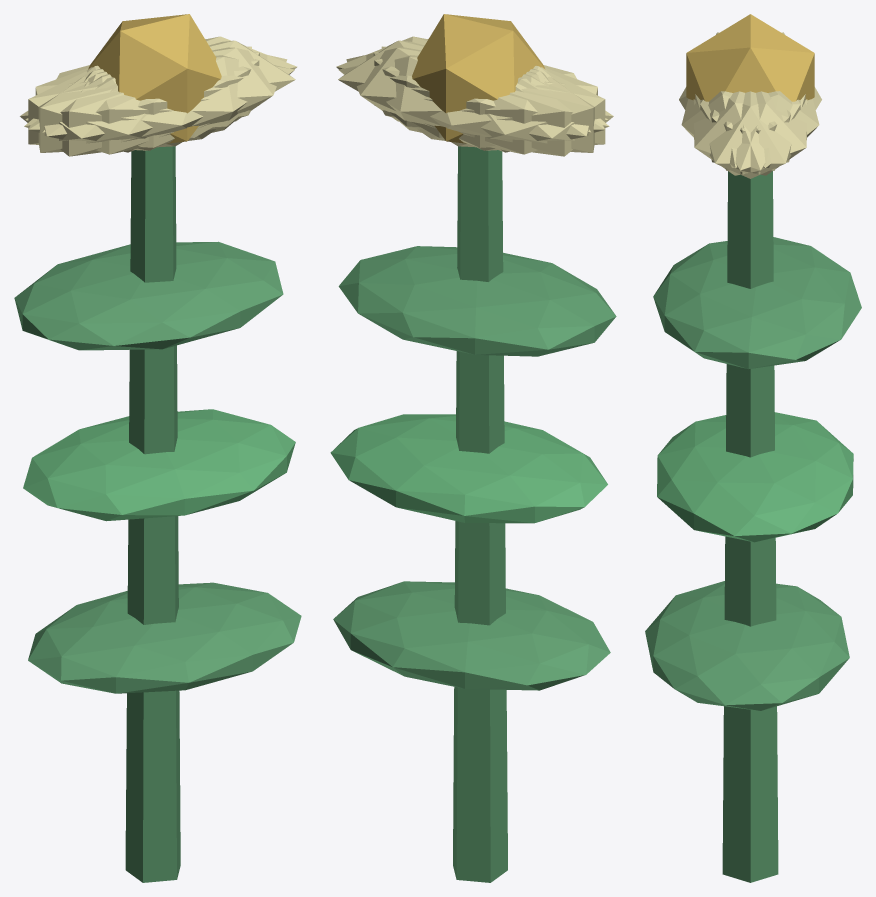
File: millingtonia-hortensis.glb
The picture shows the model from 3 angles, left to right: view 1: azimuth 30°, elevation 25°; view 2: azimuth 150°, elevation 25°; view 3: azimuth 270°, elevation 25°; orthographic projection.
Visible parts, largest first — view 1: stem, leaf0, leaf2, leaf1, center, petal1, petal6, petal2, petal5, petal7, petal0, petal4 (+2 smaller); view 2: stem, leaf2, leaf1, leaf0, center, petal8, petal3, petal7, petal4, petal2, petal0, petal5 (+2 smaller); view 3: stem, leaf2, leaf0, leaf1, center, petal0, petal4, petal5, petal1, petal8.
Boxes of the visible parts, x1=… form: stem: x1=125, y1=146, x2=180, y2=882; leaf0: x1=28, y1=582, x2=301, y2=693; leaf2: x1=14, y1=241, x2=283, y2=350; leaf1: x1=23, y1=409, x2=295, y2=521; center: x1=88, y1=14, x2=221, y2=143; petal1: x1=24, y1=55, x2=294, y2=154; petal6: x1=20, y1=67, x2=215, y2=156; petal2: x1=38, y1=46, x2=251, y2=152; petal5: x1=42, y1=47, x2=287, y2=147; petal7: x1=28, y1=52, x2=259, y2=150; petal0: x1=88, y1=40, x2=295, y2=138; petal4: x1=25, y1=36, x2=297, y2=129; stem: x1=453, y1=146, x2=507, y2=882; leaf2: x1=338, y1=246, x2=616, y2=356; leaf1: x1=330, y1=414, x2=607, y2=523; leaf0: x1=333, y1=581, x2=610, y2=690; center: x1=412, y1=14, x2=545, y2=143; petal8: x1=338, y1=55, x2=609, y2=154; petal3: x1=417, y1=67, x2=613, y2=156; petal7: x1=381, y1=46, x2=594, y2=152; petal4: x1=346, y1=47, x2=590, y2=147; petal2: x1=373, y1=52, x2=605, y2=150; petal0: x1=338, y1=40, x2=545, y2=138; petal5: x1=336, y1=36, x2=607, y2=129; stem: x1=722, y1=171, x2=778, y2=882; leaf2: x1=653, y1=237, x2=861, y2=369; leaf0: x1=645, y1=581, x2=849, y2=710; leaf1: x1=657, y1=412, x2=853, y2=542; center: x1=686, y1=14, x2=814, y2=101; petal0: x1=695, y1=91, x2=805, y2=178; petal4: x1=700, y1=91, x2=807, y2=175; petal5: x1=693, y1=91, x2=800, y2=175; petal1: x1=681, y1=91, x2=790, y2=168; petal8: x1=710, y1=91, x2=819, y2=168.
Size of the model in its own units: 0.1452 by 0.4419 by 0.1035.
